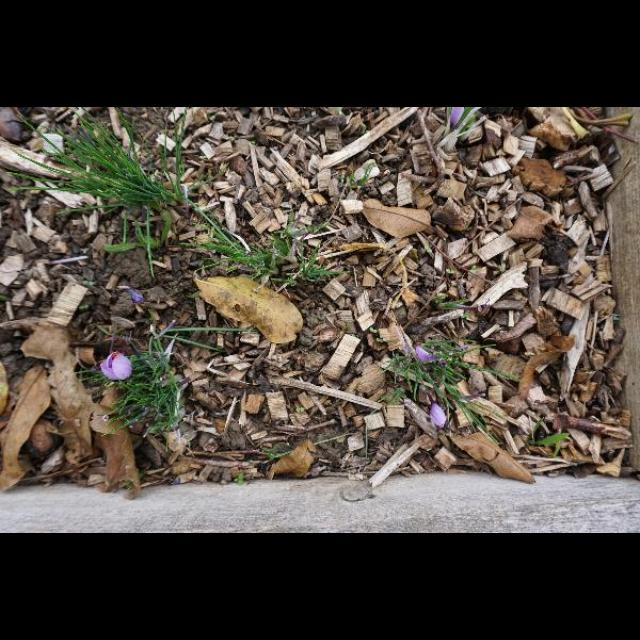flower: (100, 351, 132, 381), (430, 404, 446, 430)
